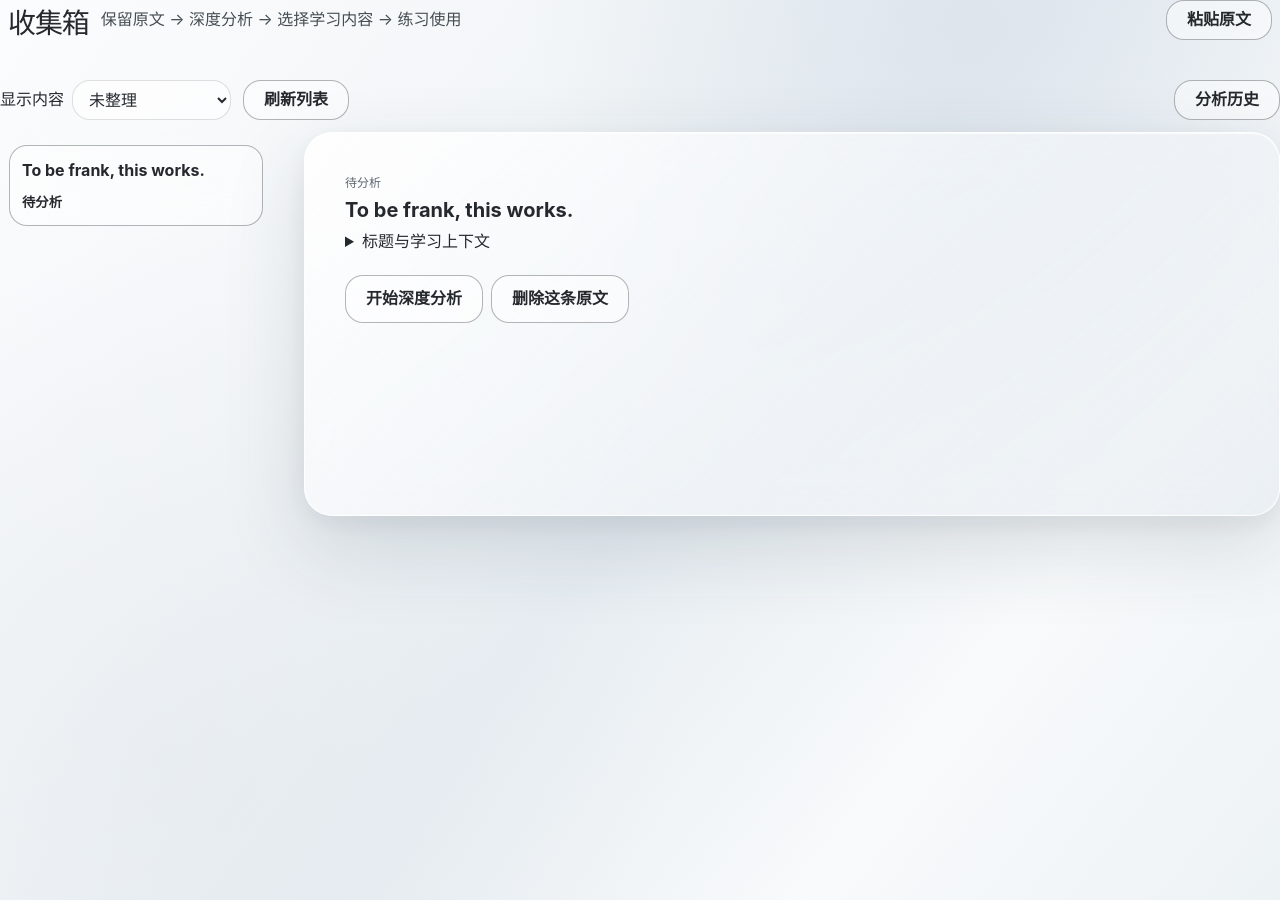
it: requires a second confirmation before deleting an original
This screenshot has width=1280, height=900.
Click the button "删除这条原文" at (560, 299), box top-left (491, 275), bottom-right (629, 323)
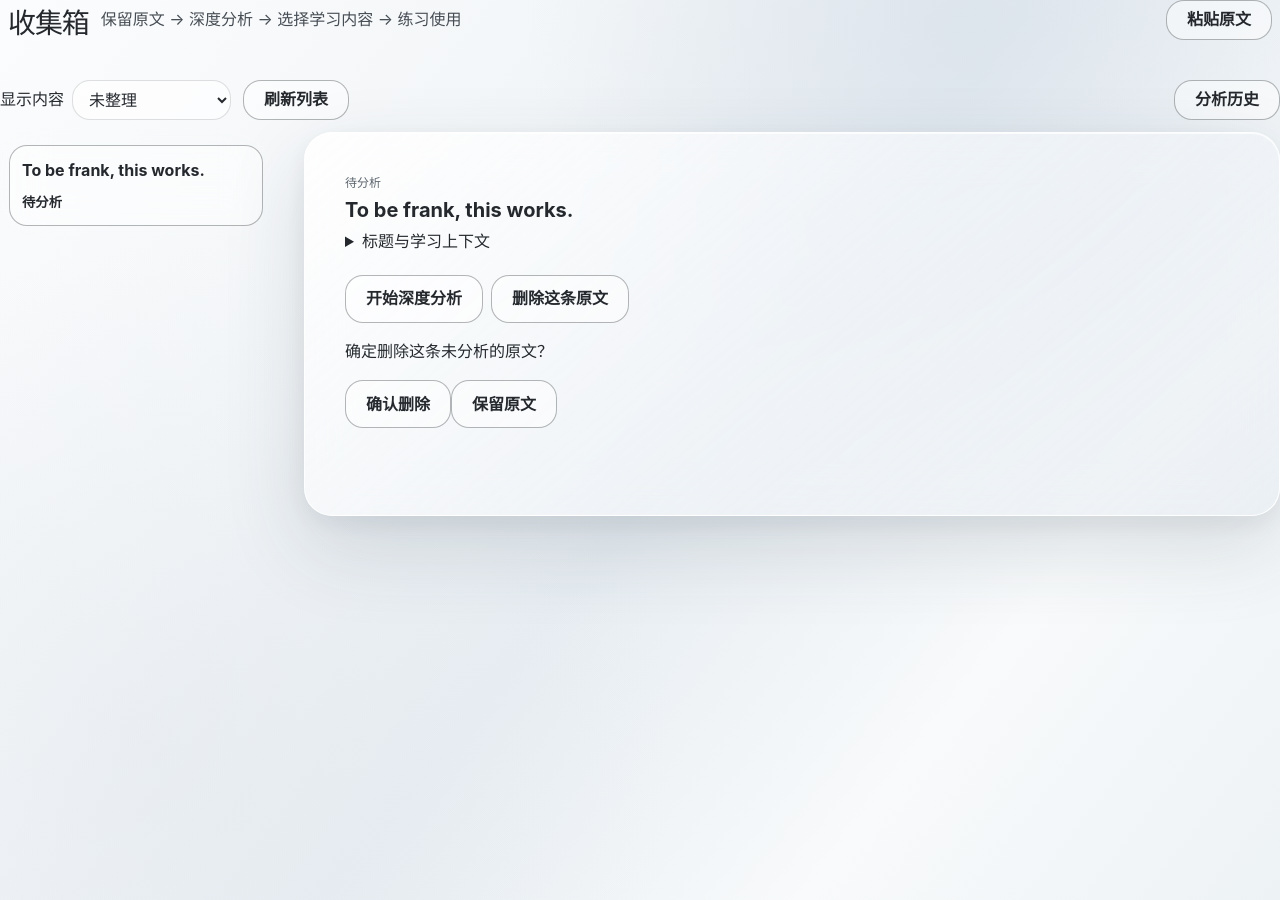
Click the button "确认删除" at (398, 404), box top-left (345, 380), bottom-right (451, 428)
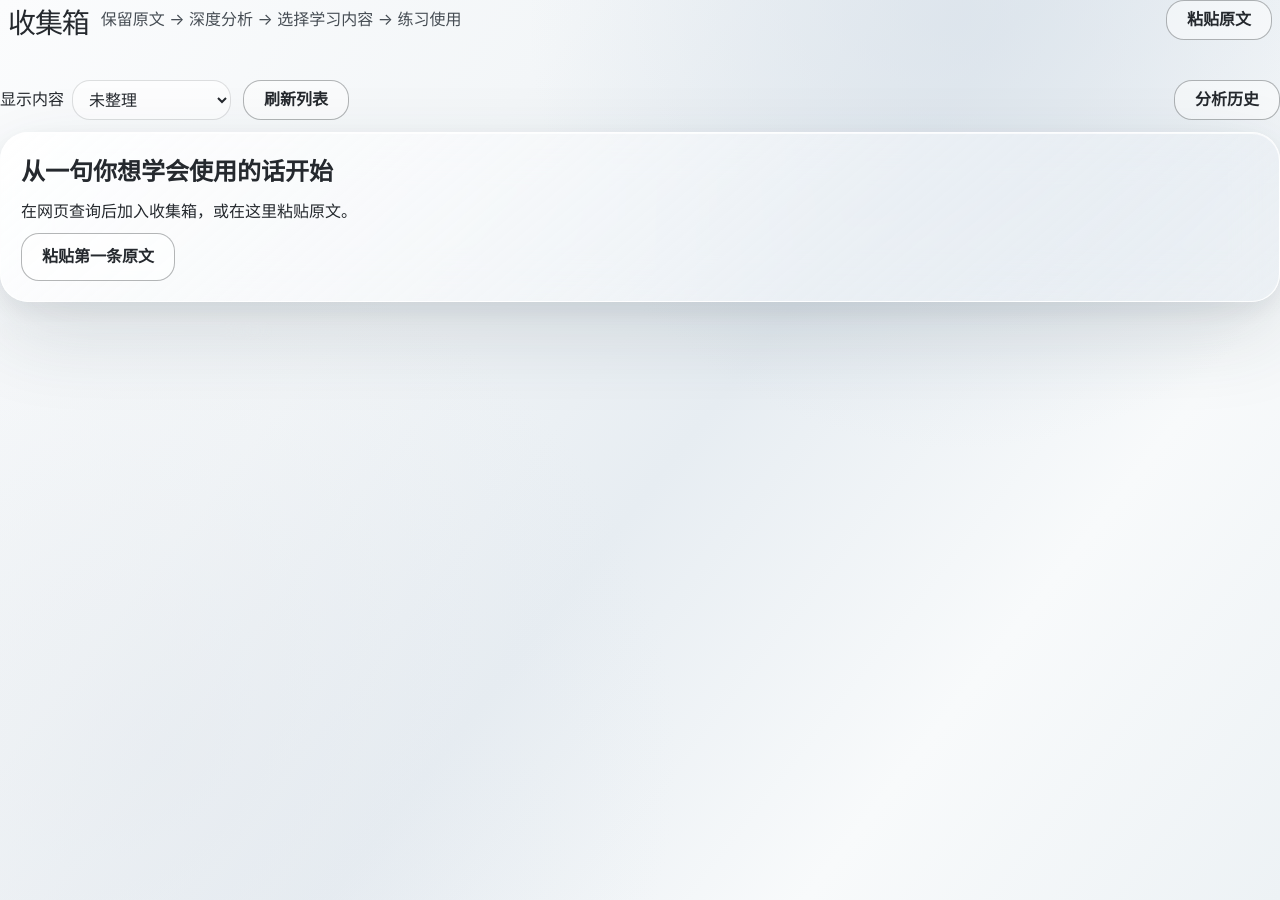
Result: the text "从一句你想学会使用的话开始" is shown at top-left (21, 157), bottom-right (333, 186)
